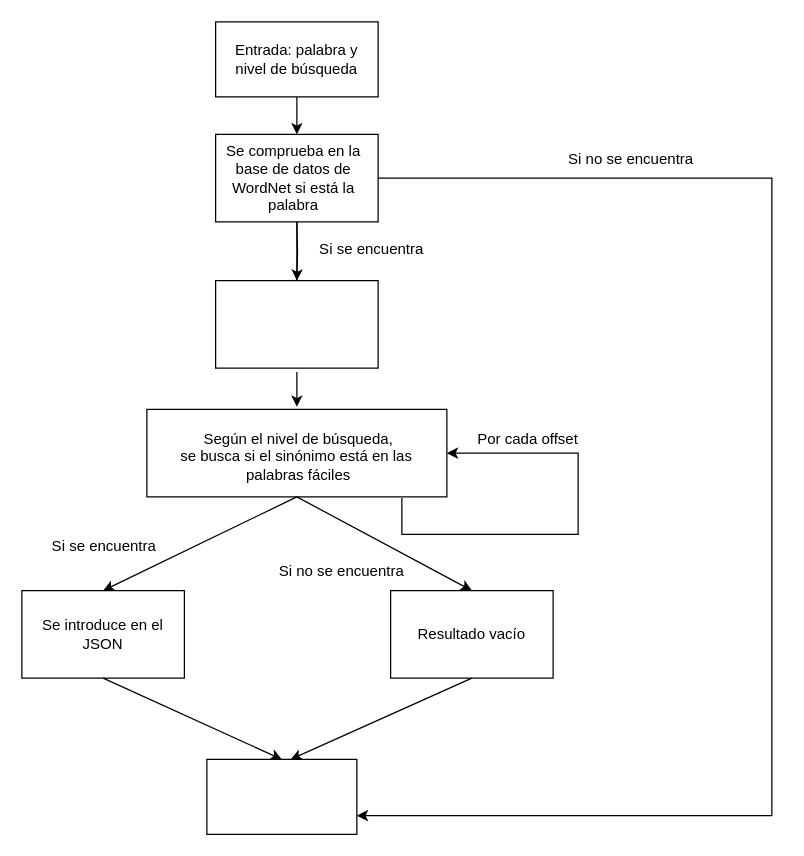
This 804x856 diagram has some shape labels left out. The centre of each missing label's shape, as x and y in pixels:
Devuelve los offset de la palabra, junto con los sinónimos de cada offset: pixel 296 323
Salida: JSON con los sinónimos fáciles encontrados: pixel 281 796
